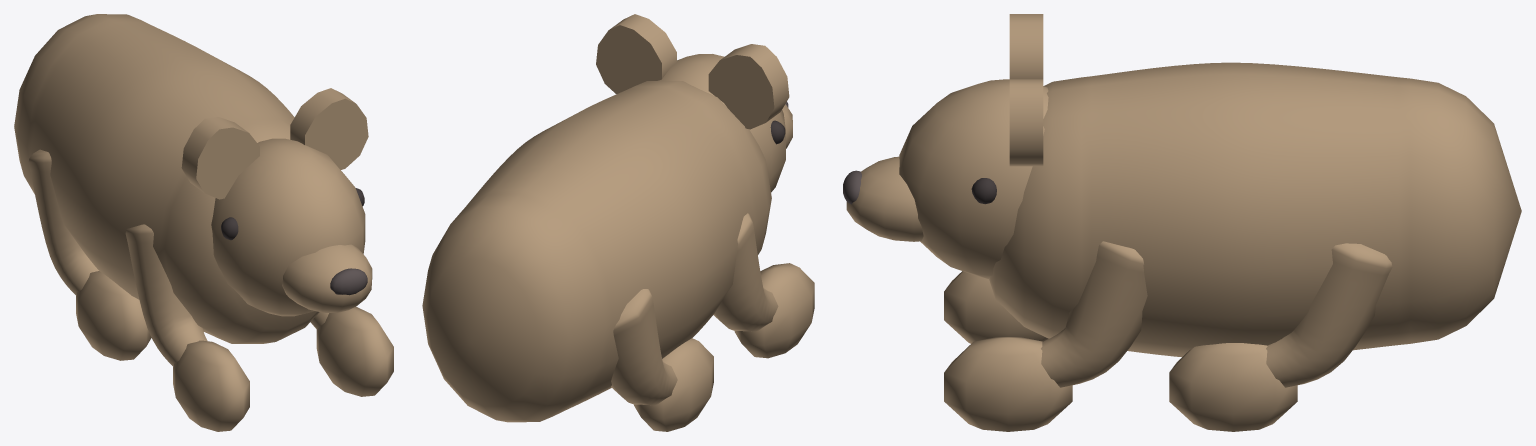
File: polar-tundra-and-alpine-fauna-alpine-marmot-cedffb42__6068.glb
The picture shows the model from 3 angles, left to right: view 1: azimuth 30°, elevation 25°; view 2: azimuth 150°, elevation 25°; view 3: azimuth 270°, elevation 25°; orthographic projection. The views are drawn at different scales.
Visible parts, largest first — view 1: alpine-marmot; view 2: alpine-marmot; view 3: alpine-marmot.
Part boxes in pixels (box(x1,y1,x2,y2)): alpine-marmot: box(14, 14, 393, 431); alpine-marmot: box(422, 14, 814, 431); alpine-marmot: box(843, 14, 1521, 431).
Bounding box in the file's own units: 0.18 × 0.2469 × 0.4451.
